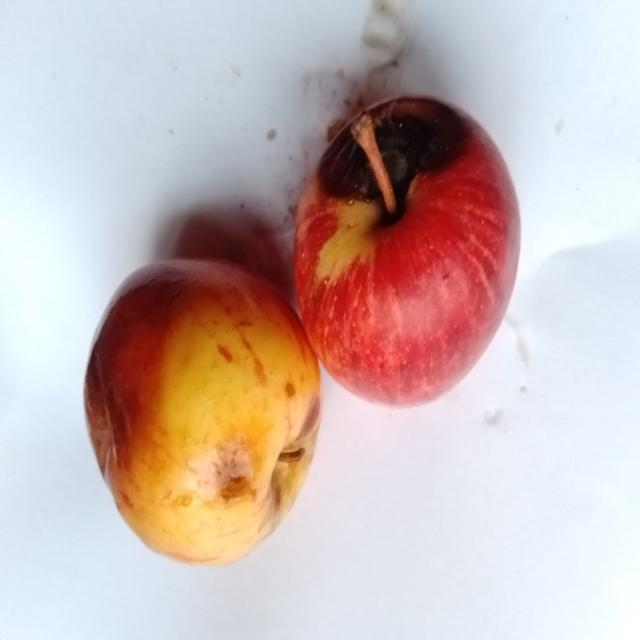apple: (85, 260, 320, 564), (295, 98, 519, 405)
